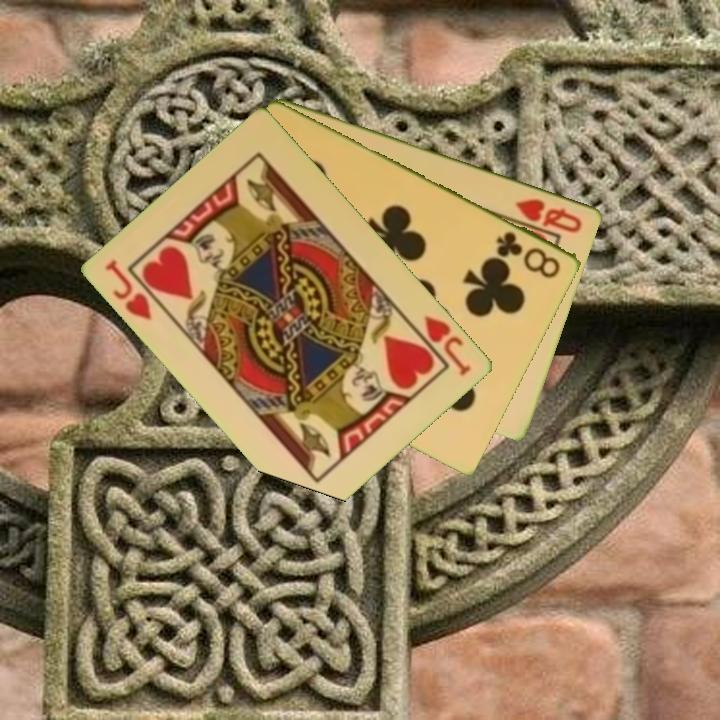8c: (493, 227, 564, 281)
Jh: (421, 311, 475, 379), (102, 256, 156, 323)
Qh: (512, 194, 586, 236)
